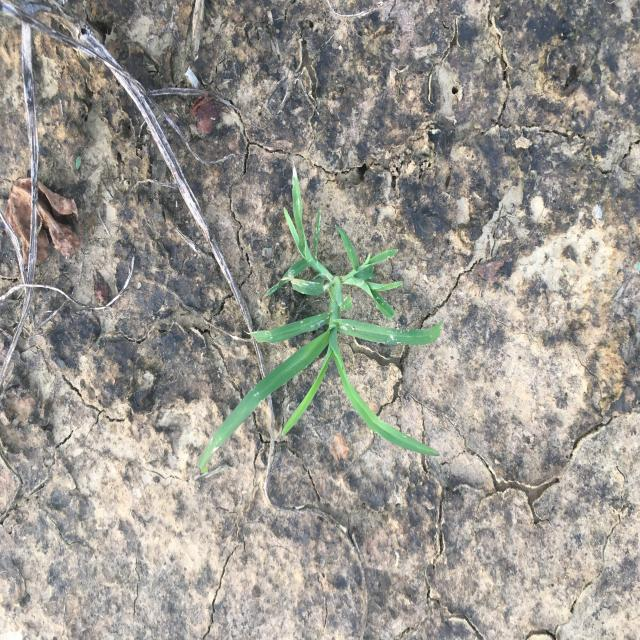Goosegrass: (196, 161, 448, 478)
